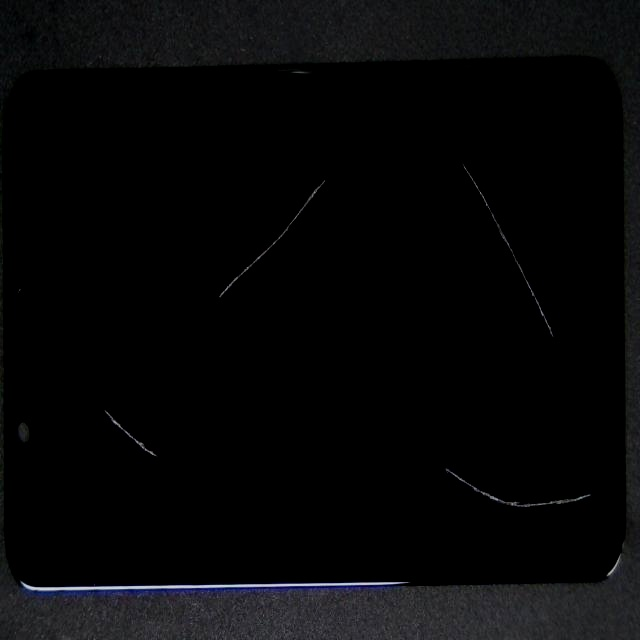scratch: (222, 17, 427, 303)
